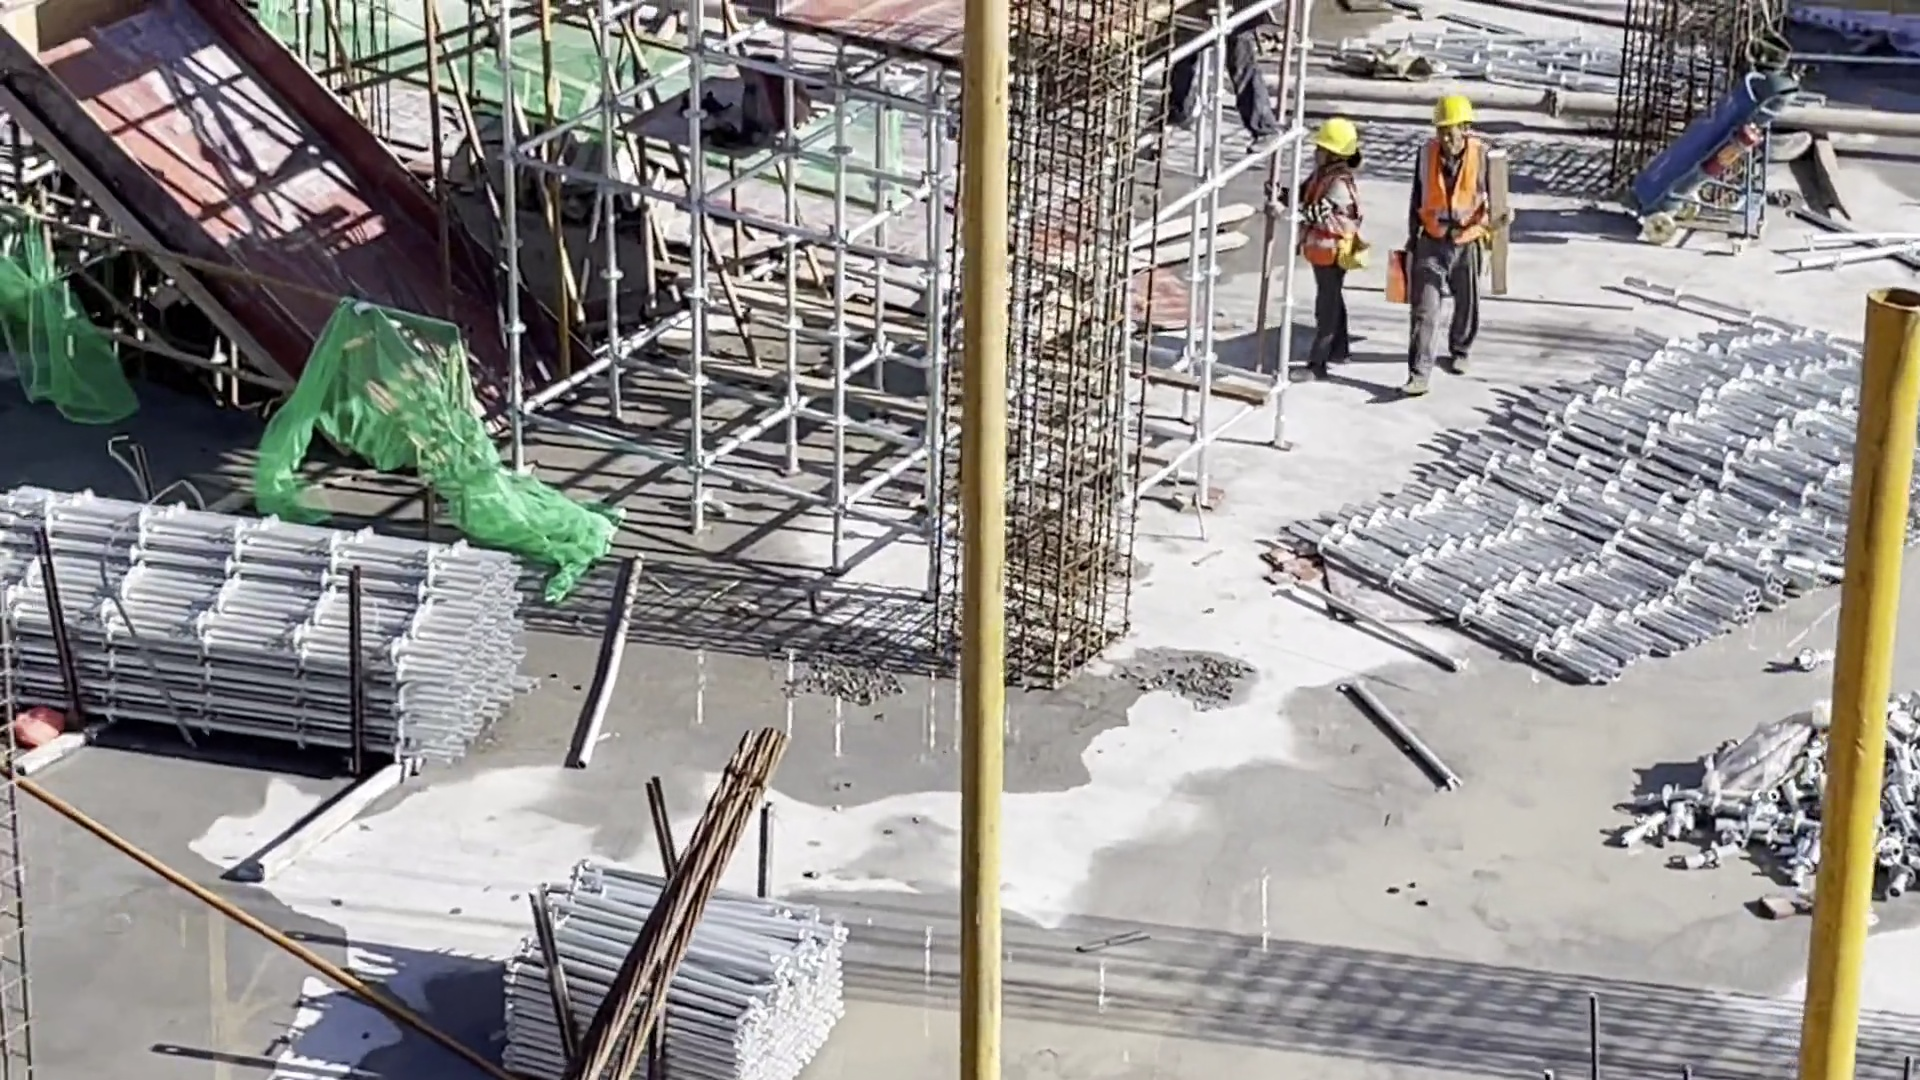helmet: (1313, 117, 1362, 156), (1436, 98, 1476, 127)
person: (1395, 95, 1497, 395), (1267, 115, 1364, 393)
scaffold: (1285, 316, 1918, 679), (1, 483, 540, 770), (503, 852, 849, 1080)
vest: (1413, 138, 1488, 238), (1296, 172, 1366, 265)
